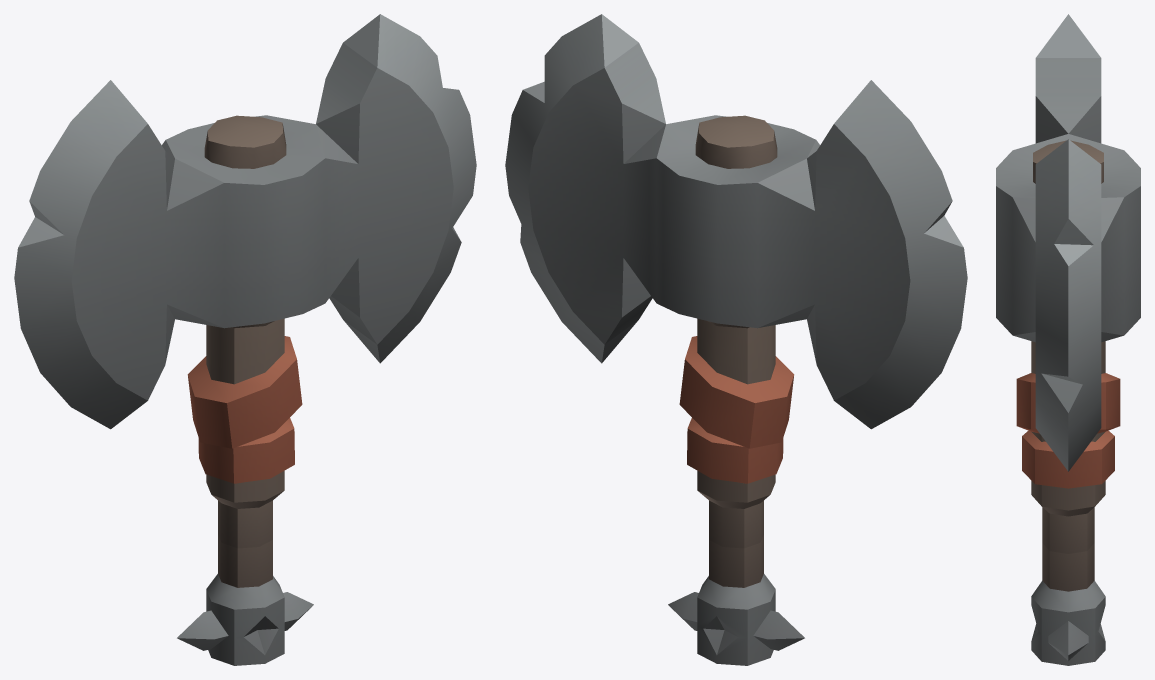
File: Axe.glb
3 views of the same model, side by side, from view 1: azimuth 30°, elevation 25°; view 2: azimuth 150°, elevation 25°; view 3: azimuth 270°, elevation 25° (orthographic). The views are drawn at different scales.
Visible parts, largest first — view 1: Skeleton_Axe; view 2: Skeleton_Axe; view 3: Skeleton_Axe.
Part boxes in pixels (x1,y1,x2,y2): Skeleton_Axe: (14, 14, 476, 665); Skeleton_Axe: (505, 14, 967, 665); Skeleton_Axe: (996, 14, 1140, 665).
Size of the model in its own units: 0.9886 by 1.25 by 0.2819.
1 material, 1 textured.
